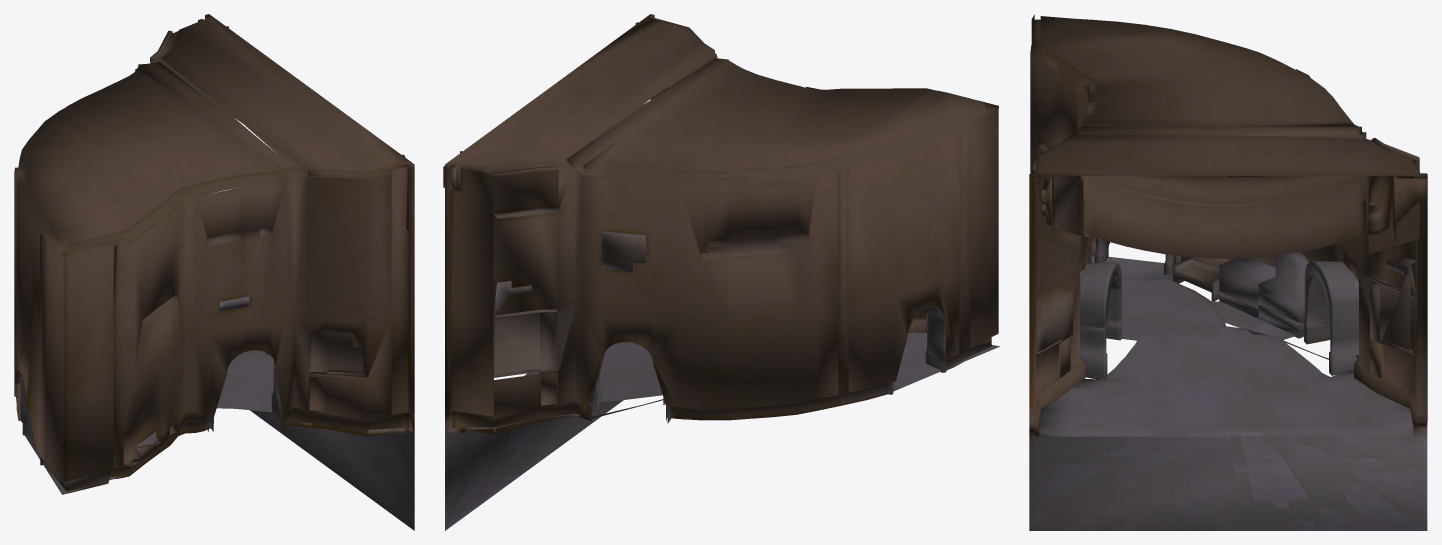
3 renders of one model, left to right at view 1: azimuth 30°, elevation 25°; view 2: azimuth 150°, elevation 25°; view 3: azimuth 270°, elevation 25°, orthographic. The views are drawn at different scales.
Size of the model in its own units: 0.98 by 0.9722 by 0.9878.
Materials: 1 (1 with a texture image).
